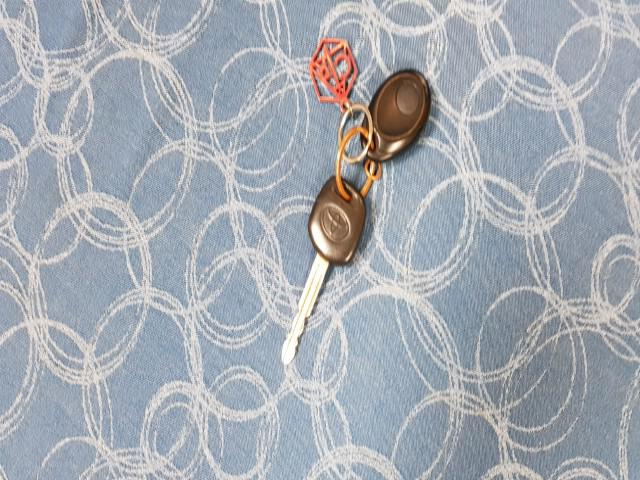key: (282, 178, 366, 365)
